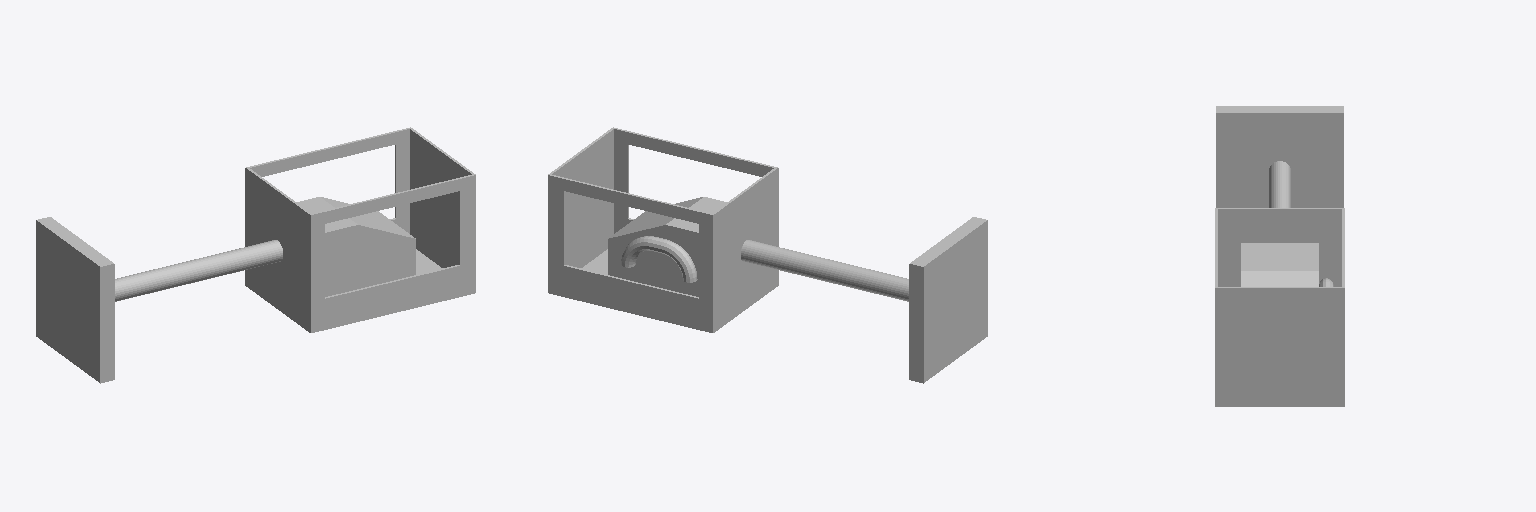
Rendered from 公衆電話.obj.
The picture shows the model from 3 angles: view 1: azimuth 30°, elevation 25°; view 2: azimuth 150°, elevation 25°; view 3: azimuth 270°, elevation 25°; orthographic projection.
Bounding box in the file's own units: 1.46 × 0.4393 × 0.4393.